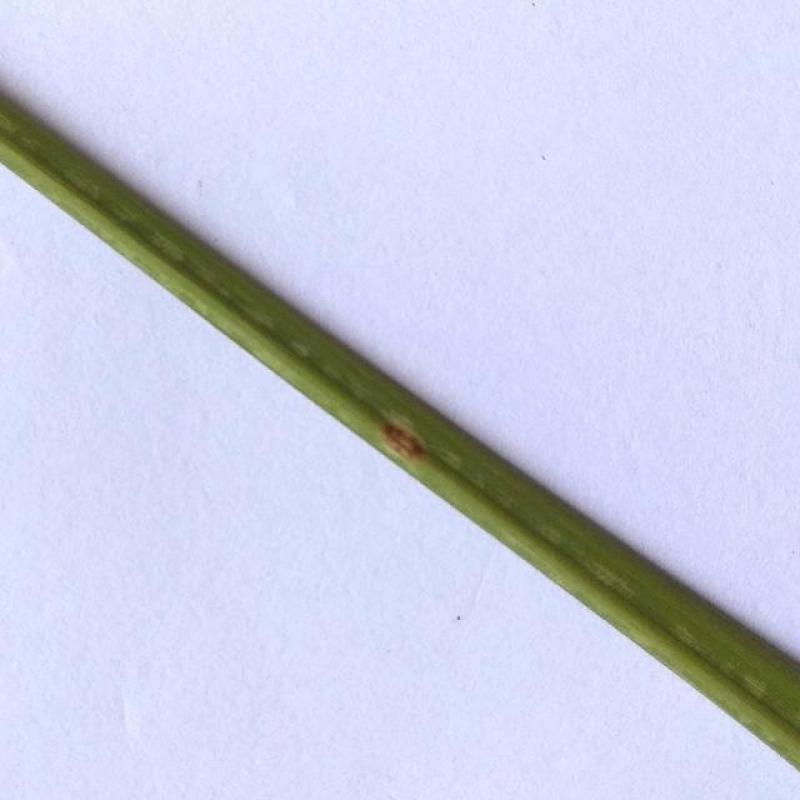Leaf_Blast: (348, 374, 468, 501)
